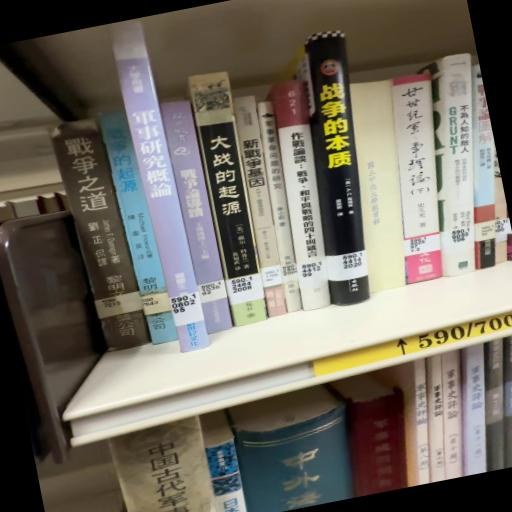backward: (351, 81, 406, 294)
book: (287, 29, 392, 299), (53, 115, 155, 359), (184, 66, 276, 328), (372, 70, 474, 288), (263, 81, 353, 316), (330, 81, 426, 296), (163, 99, 241, 343)
